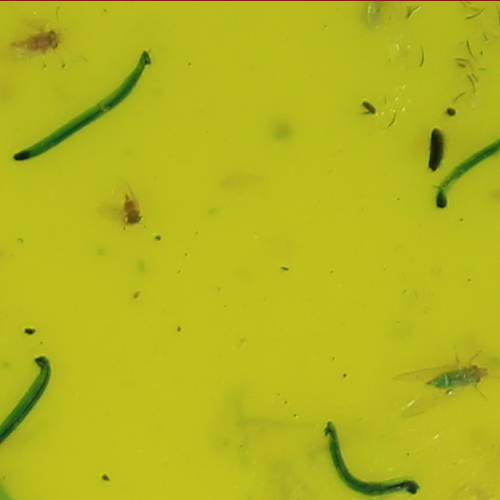Glycaspis: (426, 362, 491, 393)
Platyobria: (17, 28, 65, 51), (120, 196, 145, 226)
